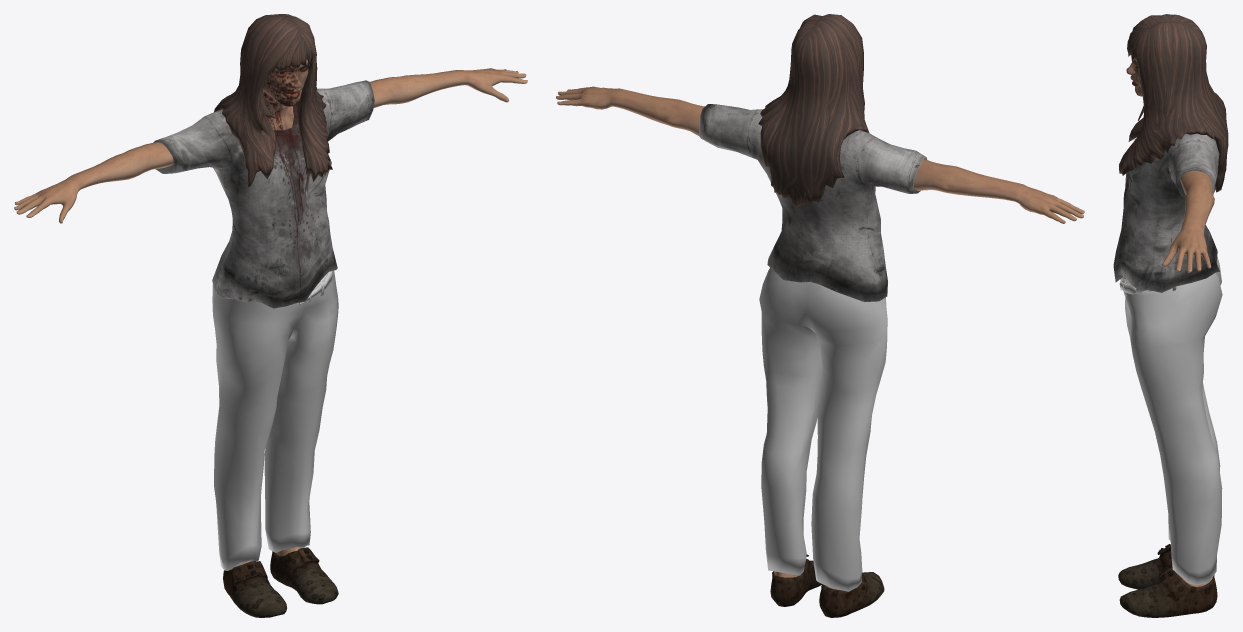
The model's file is female ghost1.obj.
The picture shows the model from 3 angles, left to right: view 1: azimuth 30°, elevation 25°; view 2: azimuth 150°, elevation 25°; view 3: azimuth 270°, elevation 25°; orthographic projection.
Parts seen in each view (by area): view 1: Bottoms, Tops, Hair, Body, Shoes; view 2: Bottoms, Tops, Hair, Body, Shoes; view 3: Bottoms, Hair, Tops, Shoes, Body.
Boxes of the visible parts, box(x1,y1,x2,y2) form: Bottoms: box(212, 270, 338, 570); Tops: box(153, 80, 374, 308); Hair: box(214, 14, 332, 186); Body: box(14, 59, 527, 565); Shoes: box(223, 547, 338, 617); Bottoms: box(759, 267, 887, 591); Tops: box(698, 104, 927, 301); Hair: box(758, 14, 869, 207); Body: box(556, 86, 1084, 590); Shoes: box(770, 554, 884, 617); Bottoms: box(1119, 257, 1222, 585); Hair: box(1119, 14, 1228, 192); Tops: box(1113, 133, 1219, 292); Shoes: box(1118, 544, 1217, 617); Body: box(1123, 58, 1214, 587).
Bounding box in the file's own units: 167 × 179 × 32.1.
